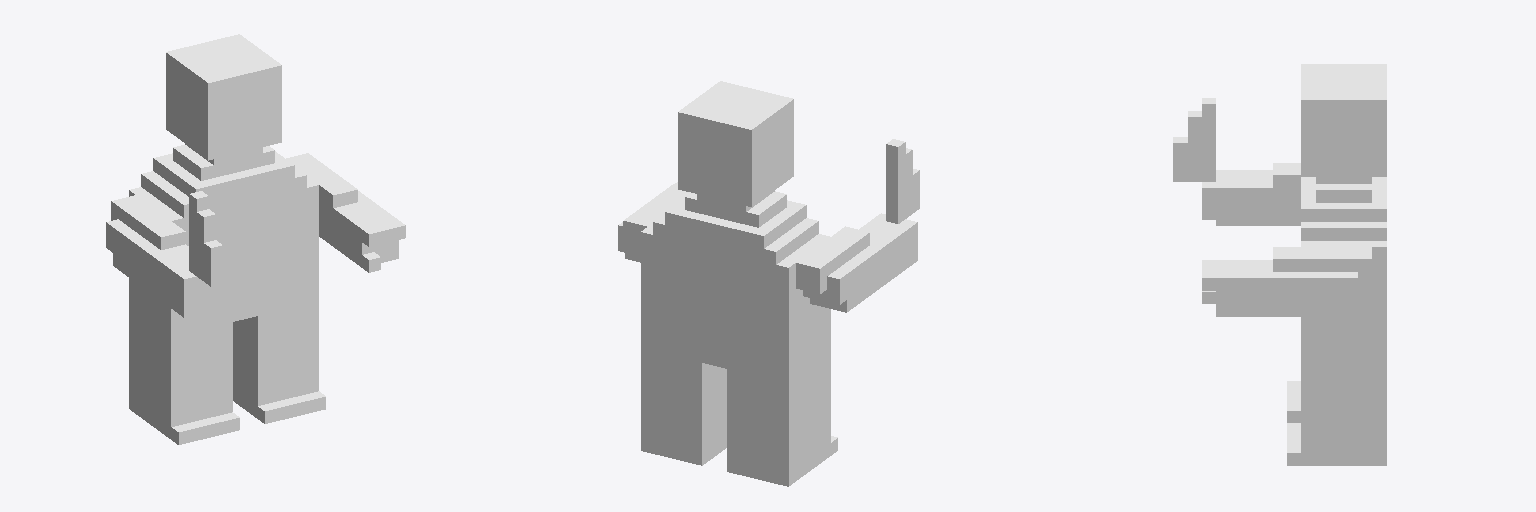
File: weapon_zombie.obj
3 views of the same model, side by side, from view 1: azimuth 30°, elevation 25°; view 2: azimuth 150°, elevation 25°; view 3: azimuth 270°, elevation 25° (orthographic).
Visible parts, largest first — view 1: object 1; view 2: object 1; view 3: object 1.
Boxes of the visible parts, box(x1,y1,x2,y2) form: object 1: box(106, 34, 405, 444); object 1: box(618, 81, 919, 486); object 1: box(1173, 64, 1386, 465).
Size of the model in its own units: 1.8 by 2.7 by 1.5.